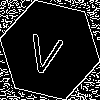V: (25, 25, 67, 76)
